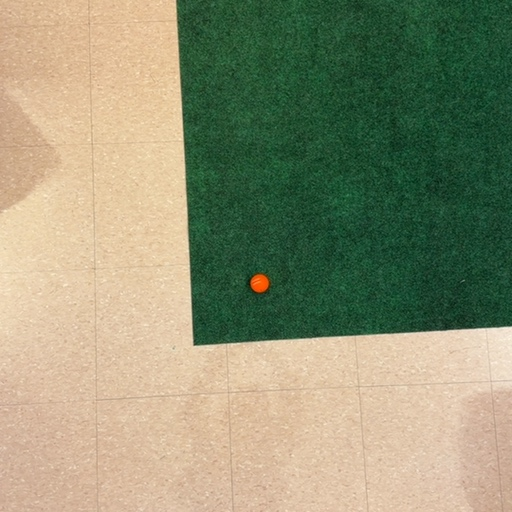Ball: (250, 274, 269, 293)
